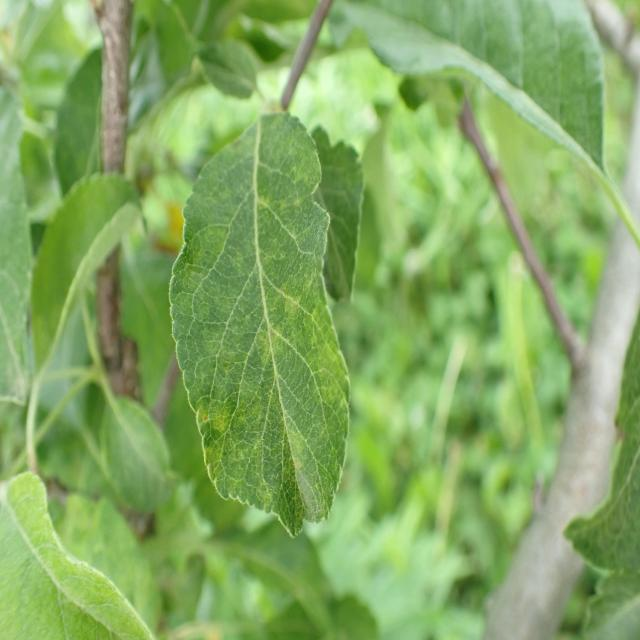scab: (187, 122, 339, 524)
